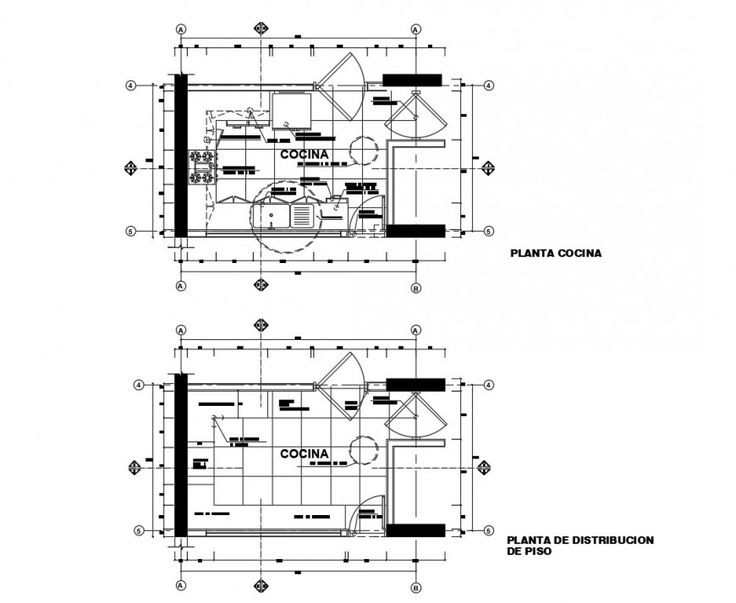door: (350, 194, 387, 234), (344, 495, 382, 533)
wall: (168, 75, 195, 235), (172, 372, 192, 537), (386, 219, 449, 244), (385, 521, 451, 542), (380, 71, 446, 89), (384, 375, 449, 391)
